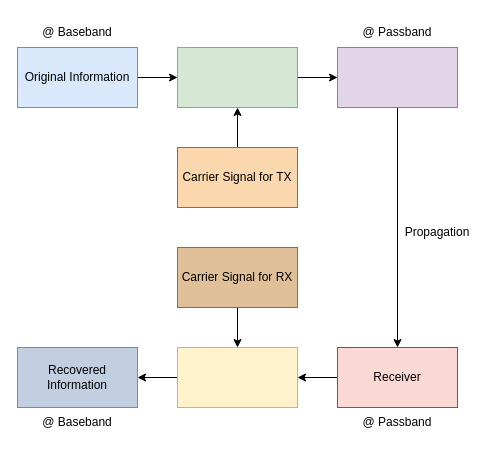
The diagram is 487 pixels wide and 454 high, and some of its shapes have lost their labels. Here are the shapes that lost their labels. From the top down, the box of each, then its label:
(176, 46, 298, 108): Modulation
(336, 46, 458, 108): Transmitter
(176, 346, 298, 408): Demodulation
